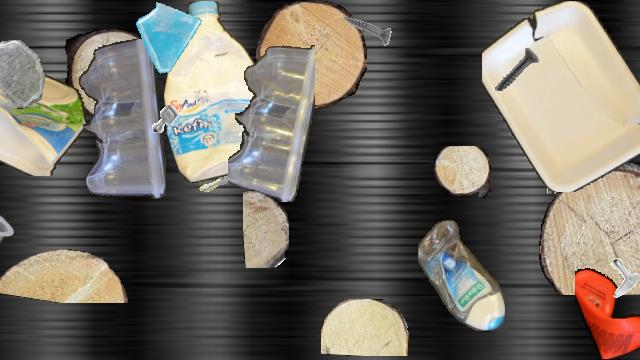glass: (132, 1, 206, 75), (0, 40, 46, 108)
metal: (485, 39, 547, 101), (182, 152, 240, 210), (334, 1, 392, 59), (539, 147, 585, 193), (599, 256, 640, 300), (144, 98, 186, 140)
plastic: (482, 1, 640, 191), (164, 1, 266, 183), (76, 39, 166, 203), (228, 41, 314, 201), (418, 220, 504, 332), (0, 70, 86, 176), (575, 265, 640, 359), (0, 191, 13, 259)
wood: (539, 163, 640, 295), (256, 1, 366, 109), (62, 29, 158, 119), (0, 249, 131, 303), (522, 93, 614, 169), (321, 299, 409, 355), (243, 190, 289, 268), (434, 146, 490, 198), (639, 103, 640, 153)
